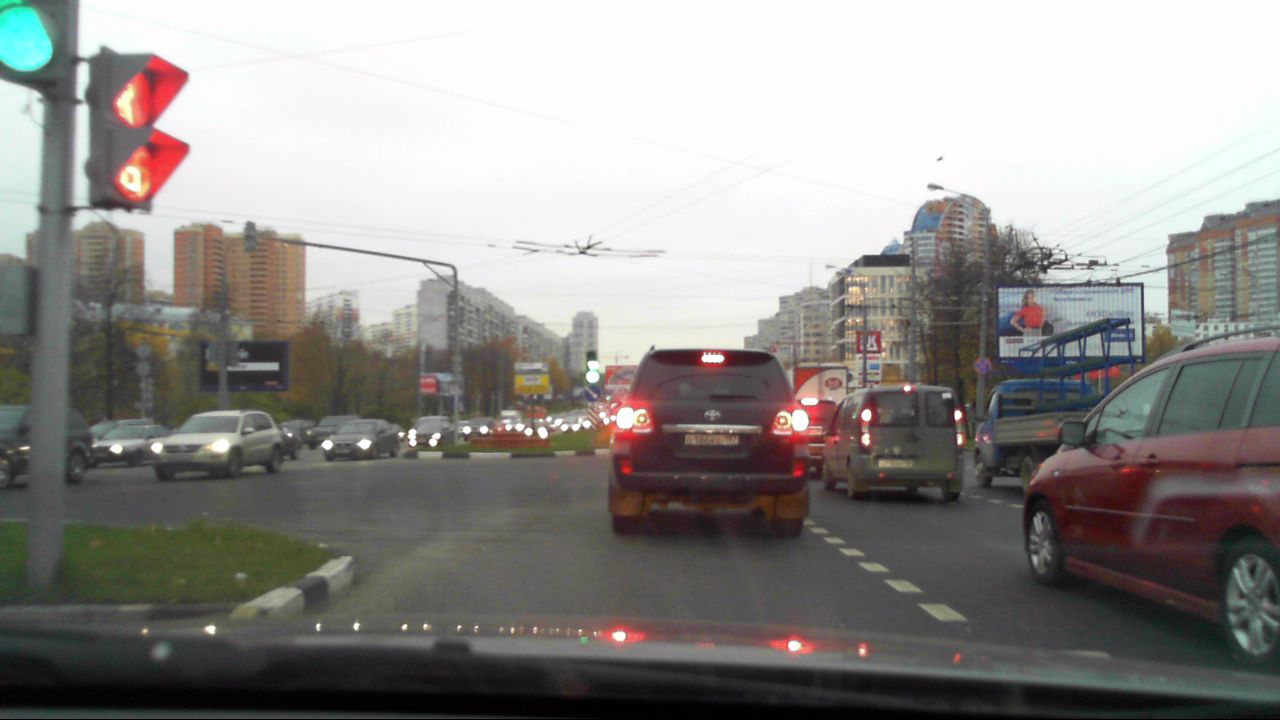No Parking: (972, 357, 991, 374)
